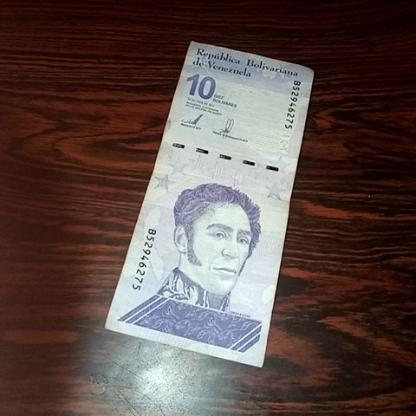ten-front-vef: (103, 43, 313, 368)
